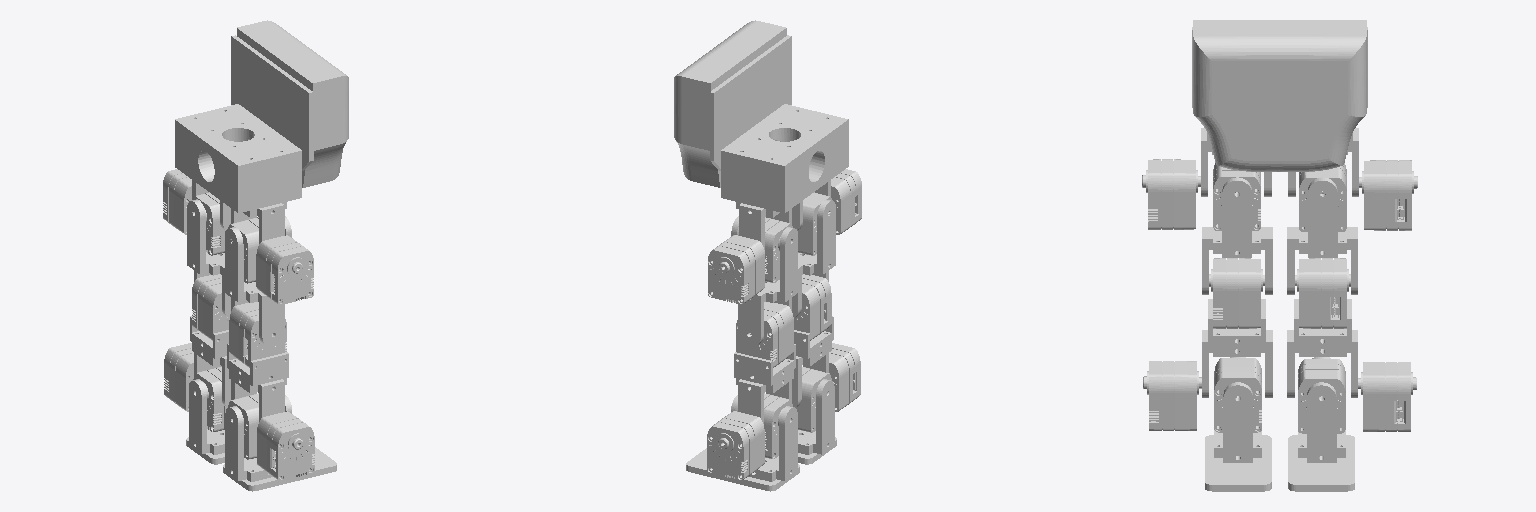
robot.urdf — walker:
<?xml version="1.0" ?>
<!-- =================================================================================== -->
<!-- |    This document was autogenerated by xacro from walker.urdf.xacro              | -->
<!-- |    EDITING THIS FILE BY HAND IS NOT RECOMMENDED                                 | -->
<!-- =================================================================================== -->
<robot name="walker" xmlns:xacro="http://www.ros.org/wiki/xacro">
  <material name="gray">
    <color rgba="0.90 0.90 0.90 1.00"/>
  </material>
  <!-- <link name="world"/> -->
  <!-- fix the robot to the world -->
  <!-- <joint name="world_lfoot_joint" type="fixed"> -->
  <!-- <parent link="world"/> -->
  <!-- <child link="lfoot_center"/> -->
  <!-- </joint> -->
  <!-- LEFT FOOT -->
  <link name="lfoot_center"/>
  <!-- center of the left foot's sole. -->
  <!-- <joint name="${name}" type="fixed"> -->
  <joint name="lfoot_center_lfoot_joint" type="revolute">
    <parent link="lfoot_center"/>
    <child link="lfoot"/>
    <axis xyz="1 0 0"/>
    <origin rpy="0 0 0" xyz="0.0 0.0 0.0"/>
  </joint>
  <!-- The origin of lfoot_center and lfoot are the same, making the lfoot_center link seem useless, but I've made it since rfoot_center is going to be necessary(because the origin of the link rfoot is not at the center of the right foot's sole, due to the direction of the link chain). -->
  <link name="lfoot">
    <!-- the offsets are used when "re-using" the left leg meshes for the right leg. It's somewhat confusing. -->
    <visual>
      <geometry>
        <mesh filename="package://walker_description/meshes/lfoot.stl" scale="0.001 0.001 0.001"/>
      </geometry>
      <material name="gray"/>
      <origin rpy="0 0 0.0" xyz="0.0 0.0 0.0"/>
    </visual>
  </link>
  <!-- <joint name="${name}" type="fixed"> -->
  <joint name="lfoot_lA_joint" type="revolute">
    <parent link="lfoot"/>
    <child link="lA"/>
    <axis xyz="1 0 0"/>
    <origin rpy="0 0 0" xyz="-0.015 0.0 0.004"/>
  </joint>
  <!-- LEFT LEG -->
  <link name="lA">
    <!-- the offsets are used when "re-using" the left leg meshes for the right leg. It's somewhat confusing. -->
    <visual>
      <geometry>
        <mesh filename="package://walker_description/meshes/lA.stl" scale="0.001 0.001 0.001"/>
      </geometry>
      <material name="gray"/>
      <origin rpy="0 0 0.0" xyz="0.0 0.0 0.0"/>
    </visual>
  </link>
  <joint name="l_ankle_roll" type="revolute">
    <parent link="lA"/>
    <child link="lB"/>
    <origin rpy="0 0 0" xyz="0.019 0.0 0.038"/>
    <axis xyz="1 0 0"/>
    <limit effort="40.0" lower="-0.401425644444" upper="0.401425644444" velocity="1.0"/>
  </joint>
  <link name="lB">
    <!-- the offsets are used when "re-using" the left leg meshes for the right leg. It's somewhat confusing. -->
    <visual>
      <geometry>
        <mesh filename="package://walker_description/meshes/lB.stl" scale="0.001 0.001 0.001"/>
      </geometry>
      <material name="gray"/>
      <origin rpy="0 0 0.0" xyz="0.0 0.0 0.0"/>
    </visual>
  </link>
  <joint name="l_ankle_pitch" type="revolute">
    <parent link="lB"/>
    <child link="lC"/>
    <origin rpy="0 0 0" xyz="-0.01972 0.01954 0.0"/>
    <axis xyz="0 1 0"/>
    <limit effort="40.0" lower="-1.04719733333" upper="1.04719733333" velocity="1.0"/>
  </joint>
  <link name="lC">
    <!-- the offsets are used when "re-using" the left leg meshes for the right leg. It's somewhat confusing. -->
    <visual>
      <geometry>
        <mesh filename="package://walker_description/meshes/lC.stl" scale="0.001 0.001 0.001"/>
      </geometry>
      <material name="gray"/>
      <origin rpy="0 0 0.0" xyz="0.0 0.0 0.0"/>
    </visual>
  </link>
  <joint name="l_knee" type="revolute">
    <parent link="lC"/>
    <child link="lD"/>
    <origin rpy="0 0 0" xyz="0.0 0.0 0.061"/>
    <axis xyz="0 1 0"/>
    <limit effort="40.0" lower="-1.570796" upper="0.0" velocity="1.0"/>
  </joint>
  <link name="lD">
    <!-- the offsets are used when "re-using" the left leg meshes for the right leg. It's somewhat confusing. -->
    <visual>
      <geometry>
        <mesh filename="package://walker_description/meshes/lD.stl" scale="0.001 0.001 0.001"/>
      </geometry>
      <material name="gray"/>
      <origin rpy="0 0 0.0" xyz="0.0 0.0 0.0"/>
    </visual>
  </link>
  <joint name="l_hip_roll" type="revolute">
    <parent link="lD"/>
    <child link="lE"/>
    <origin rpy="0 0 0" xyz="0.019 -0.019 0.058"/>
    <axis xyz="1 0 0"/>
    <limit effort="40.0" lower="-0.401425644444" upper="0.401425644444" velocity="1.0"/>
  </joint>
  <link name="lE">
    <!-- the offsets are used when "re-using" the left leg meshes for the right leg. It's somewhat confusing. -->
    <visual>
      <geometry>
        <mesh filename="package://walker_description/meshes/lB.stl" scale="0.001 0.001 0.001"/>
      </geometry>
      <material name="gray"/>
      <origin rpy="0 0 0.0" xyz="0.0 0.0 0.0"/>
    </visual>
    <!-- lB and lE are the same -->
  </link>
  <joint name="l_hip_pitch" type="revolute">
    <parent link="lE"/>
    <child link="lF"/>
    <origin rpy="0 0 0" xyz="-0.01972 0.01954 0.0"/>
    <axis xyz="0 1 0"/>
    <limit effort="40.0" lower="-1.04719733333" upper="1.04719733333" velocity="1.0"/>
  </joint>
  <link name="lF">
    <!-- the offsets are used when "re-using" the left leg meshes for the right leg. It's somewhat confusing. -->
    <visual>
      <geometry>
        <mesh filename="package://walker_description/meshes/lF.stl" scale="0.001 0.001 0.001"/>
      </geometry>
      <material name="gray"/>
      <origin rpy="0 0 0.0" xyz="0.0 0.0 0.0"/>
    </visual>
  </link>
  <!-- WAIST -->
  <!-- <joint name="${name}" type="fixed"> -->
  <joint name="lF_waist_joint" type="revolute">
    <parent link="lF"/>
    <child link="waist"/>
    <axis xyz="1 0 0"/>
    <origin rpy="0 0 0" xyz="0.0 -0.019 0.028"/>
  </joint>
  <link name="waist">
    <!-- the offsets are used when "re-using" the left leg meshes for the right leg. It's somewhat confusing. -->
    <visual>
      <geometry>
        <mesh filename="package://walker_description/meshes/waist.stl" scale="0.001 0.001 0.001"/>
      </geometry>
      <material name="gray"/>
      <origin rpy="0 0 0.0" xyz="0.0 0.0 0.0"/>
    </visual>
  </link>
  <!-- <joint name="${name}" type="fixed"> -->
  <joint name="waist_pelvis_joint" type="revolute">
    <parent link="waist"/>
    <child link="pelvis"/>
    <axis xyz="1 0 0"/>
    <origin rpy="0 0 0" xyz="0.0 -0.0235 0.0"/>
  </joint>
  <link name="pelvis"/>
  <!-- pelvis is the "center" of the robot. -->
  <!-- <joint name="${name}" type="fixed"> -->
  <joint name="waist_rF_joint" type="revolute">
    <parent link="waist"/>
    <child link="rF"/>
    <axis xyz="1 0 0"/>
    <origin rpy="0 0 0" xyz="0.0 -0.047 0.0"/>
  </joint>
  <!-- RIGHT LEG -->
  <link name="rF">
    <!-- the offsets are used when "re-using" the left leg meshes for the right leg. It's somewhat confusing. -->
    <visual>
      <geometry>
        <mesh filename="package://walker_description/meshes/lF.stl" scale="0.001 0.001 0.001"/>
      </geometry>
      <material name="gray"/>
      <origin rpy="0 0 3.141592" xyz="0.0 -0.019 -0.028"/>
    </visual>
  </link>
  <joint name="r_hip_pitch" type="revolute">
    <parent link="rF"/>
    <child link="rE"/>
    <origin rpy="0 0 0" xyz="0.0 -0.019 -0.028"/>
    <axis xyz="0 1 0"/>
    <limit effort="40.0" lower="-1.04719733333" upper="1.04719733333" velocity="1.0"/>
  </joint>
  <link name="rE">
    <!-- the offsets are used when "re-using" the left leg meshes for the right leg. It's somewhat confusing. -->
    <visual>
      <geometry>
        <mesh filename="package://walker_description/meshes/lB.stl" scale="0.001 0.001 0.001"/>
      </geometry>
      <material name="gray"/>
      <origin rpy="0 0 3.141592" xyz="-0.01972 0.01954 0.0"/>
    </visual>
    <!-- re-using the meshes from the right leg. It's a bit confusing to set the origin parameters, and I've done it through trial and error lol -->
  </link>
  <joint name="r_hip_roll" type="revolute">
    <parent link="rE"/>
    <child link="rD"/>
    <origin rpy="0 0 0" xyz="0.01972 0.01954 0.0"/>
    <axis xyz="1 0 0"/>
    <limit effort="40.0" lower="-0.401425644444" upper="0.401425644444" velocity="1.0"/>
  </joint>
  <link name="rD">
    <!-- the offsets are used when "re-using" the left leg meshes for the right leg. It's somewhat confusing. -->
    <visual>
      <geometry>
        <mesh filename="package://walker_description/meshes/lD.stl" scale="0.001 0.001 0.001"/>
      </geometry>
      <material name="gray"/>
      <origin rpy="0 0 3.141592" xyz="-0.019 -0.019 -0.058"/>
    </visual>
  </link>
  <joint name="r_knee" type="revolute">
    <parent link="rD"/>
    <child link="rC"/>
    <origin rpy="0 0 0" xyz="-0.019 -0.019 -0.058"/>
    <axis xyz="0 1 0"/>
    <limit effort="40.0" lower="0.0" upper="1.570796" velocity="1.0"/>
  </joint>
  <link name="rC">
    <!-- the offsets are used when "re-using" the left leg meshes for the right leg. It's somewhat confusing. -->
    <visual>
      <geometry>
        <mesh filename="package://walker_description/meshes/lC.stl" scale="0.001 0.001 0.001"/>
      </geometry>
      <material name="gray"/>
      <origin rpy="0 0 3.141592" xyz="0.0 0.0 -0.061"/>
    </visual>
  </link>
  <joint name="r_ankle_pitch" type="revolute">
    <parent link="rC"/>
    <child link="rB"/>
    <origin rpy="0 0 0" xyz="0.0 0.0 -0.061"/>
    <axis xyz="0 1 0"/>
    <limit effort="40.0" lower="-1.04719733333" upper="1.04719733333" velocity="1.0"/>
  </joint>
  <link name="rB">
    <!-- the offsets are used when "re-using" the left leg meshes for the right leg. It's somewhat confusing. -->
    <visual>
      <geometry>
        <mesh filename="package://walker_description/meshes/lB.stl" scale="0.001 0.001 0.001"/>
      </geometry>
      <material name="gray"/>
      <origin rpy="0 0 3.141592" xyz="-0.01972 0.01954 0.0"/>
    </visual>
  </link>
  <joint name="r_ankle_roll" type="revolute">
    <parent link="rB"/>
    <child link="rA"/>
    <origin rpy="0 0 0" xyz="0.01972 0.01954 0.0"/>
    <axis xyz="1 0 0"/>
    <limit effort="40.0" lower="-0.401425644444" upper="0.401425644444" velocity="1.0"/>
  </joint>
  <link name="rA">
    <!-- the offsets are used when "re-using" the left leg meshes for the right leg. It's somewhat confusing. -->
    <visual>
      <geometry>
        <mesh filename="package://walker_description/meshes/lA.stl" scale="0.001 0.001 0.001"/>
      </geometry>
      <material name="gray"/>
      <origin rpy="0 0 3.141592" xyz="-0.019 0.0 -0.038"/>
    </visual>
  </link>
  <!-- RIGHT FOOT -->
  <!-- <joint name="${name}" type="fixed"> -->
  <joint name="rA_rfoot_joint" type="revolute">
    <parent link="rA"/>
    <child link="rfoot"/>
    <axis xyz="1 0 0"/>
    <origin rpy="0 0 0" xyz="-0.019 0.0 -0.038"/>
  </joint>
  <link name="rfoot">
    <!-- the offsets are used when "re-using" the left leg meshes for the right leg. It's somewhat confusing. -->
    <visual>
      <geometry>
        <mesh filename="package://walker_description/meshes/lfoot.stl" scale="0.001 0.001 0.001"/>
      </geometry>
      <material name="gray"/>
      <origin rpy="0 0 0.0" xyz="0.015 0.0 -0.004"/>
    </visual>
  </link>
  <!-- <joint name="${name}" type="fixed"> -->
  <joint name="rfoot_rfoot_center_joint" type="revolute">
    <parent link="rfoot"/>
    <child link="rfoot_center"/>
    <axis xyz="1 0 0"/>
    <origin rpy="0 0 0" xyz="0.015 0.0 -0.004"/>
  </joint>
  <link name="rfoot_center"/>
</robot>

--- Facts derived from the render (not from the file) ---
Views: 3 orthographic renders of the robot side by side, from view 1: azimuth 30°, elevation 25°; view 2: azimuth 150°, elevation 25°; view 3: azimuth 270°, elevation 25°.
Model walker with 18 links and 17 joints (17 revolute), rooted at lfoot_center, posed every joint at zero.
Links seen in each view (by area): view 1: waist, rC, rB, rE, lC, rD, lB, lE, lD, rA, lA, rF (+1 smaller); view 2: waist, lC, lB, lE, rC, lD, rB, rE, rD, lA, rA, lF (+1 smaller); view 3: waist, lC, rC, rB, lB, lE, rE, rD, lD, rA, lA, lfoot (+3 smaller).
Link boxes in pixels (x1,y1,x2,y2): waist: [175, 20, 348, 213]; rC: [227, 302, 288, 421]; rB: [228, 393, 314, 480]; rE: [228, 217, 313, 304]; lC: [190, 274, 230, 407]; rD: [225, 216, 291, 346]; lB: [164, 343, 226, 431]; lE: [163, 169, 224, 255]; lD: [187, 199, 230, 318]; rA: [225, 395, 291, 481]; lA: [189, 379, 224, 454]; rF: [231, 202, 286, 243]; waist: [674, 20, 848, 213]; lC: [734, 302, 795, 423]; lB: [707, 393, 792, 480]; lE: [708, 217, 792, 304]; rC: [792, 274, 833, 407]; lD: [731, 216, 797, 346]; rB: [796, 343, 860, 432]; rE: [798, 169, 861, 255]; rD: [792, 199, 835, 317]; lA: [731, 395, 797, 481]; rA: [798, 379, 834, 454]; lF: [736, 202, 791, 249]; waist: [1192, 20, 1367, 171]; lC: [1287, 258, 1357, 397]; rC: [1202, 258, 1272, 397]; rB: [1143, 358, 1261, 432]; lB: [1298, 359, 1416, 433]; lE: [1299, 160, 1417, 231]; rE: [1142, 159, 1260, 230]; rD: [1202, 177, 1272, 294]; lD: [1287, 177, 1357, 294]; rA: [1214, 357, 1261, 462]; lA: [1298, 357, 1345, 462]; lfoot: [1288, 435, 1354, 491].
Size in the robot's own frame: 0.078 by 0.1481 by 0.2685 metres.
Meshes: 7 distinct files referenced, 15 mesh visuals loaded (7 binary STL).
